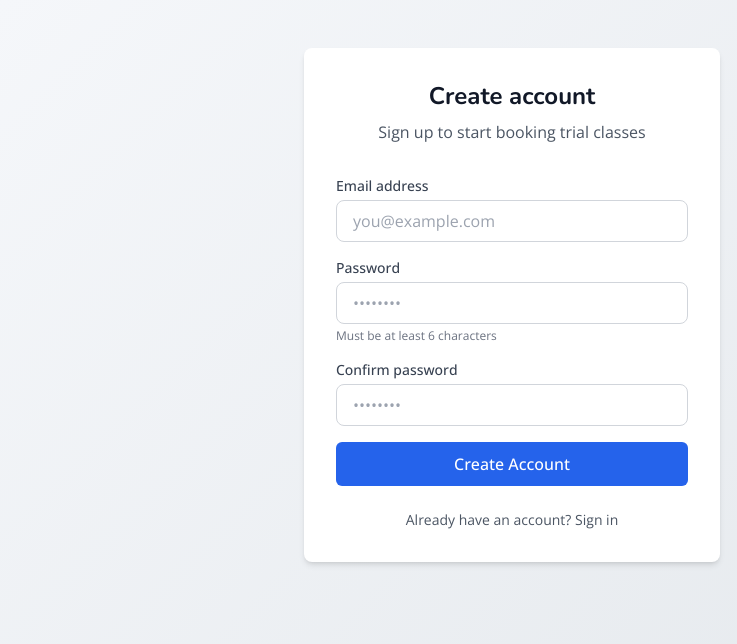
Scenario: LR-SU UI & structure › LR-SU-006: error region is NOT announced to assistive tech (current a11y defect, fix in F8)
Step 1. Type "a@b.co" into the field labelled "Email address" → point(512, 221), box [336, 200, 688, 242]
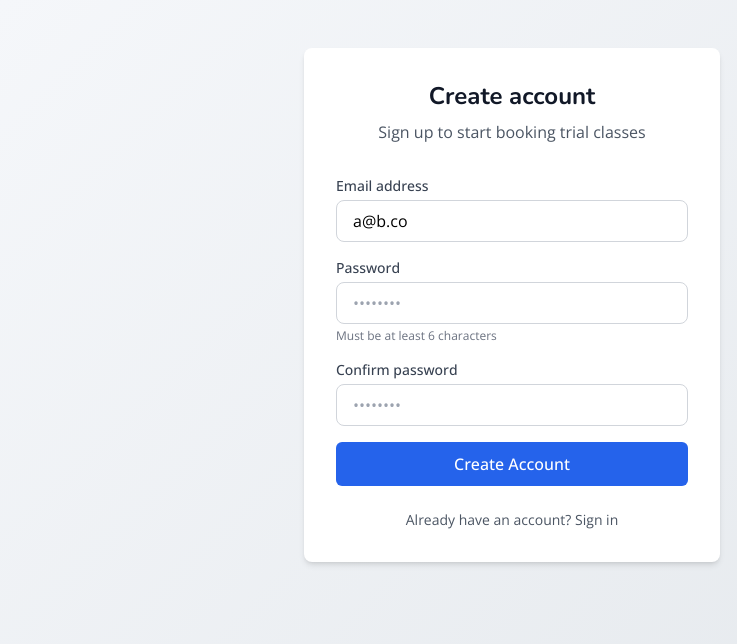
Step 2. Type "123456" into the password field labelled "Password" → point(512, 303), box [336, 282, 688, 324]
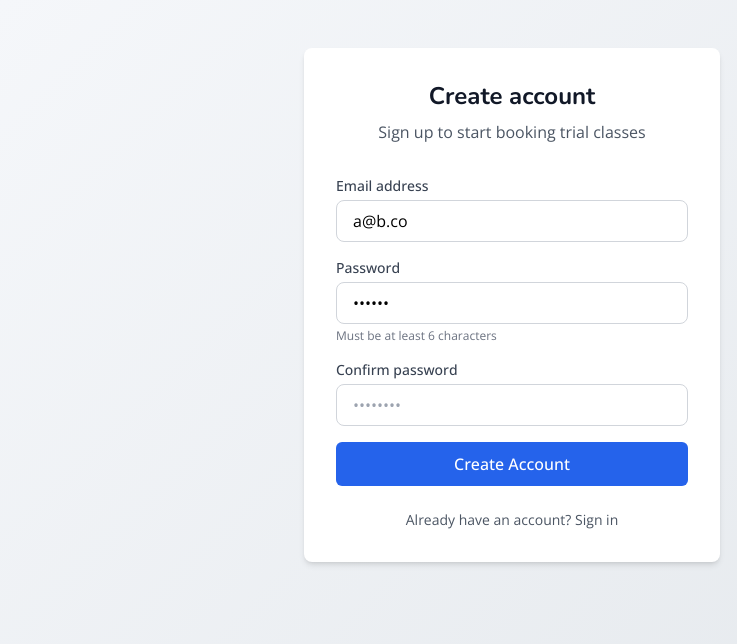
Step 3. Type "123456" into the password field labelled "Confirm password" → point(512, 405), box [336, 384, 688, 426]
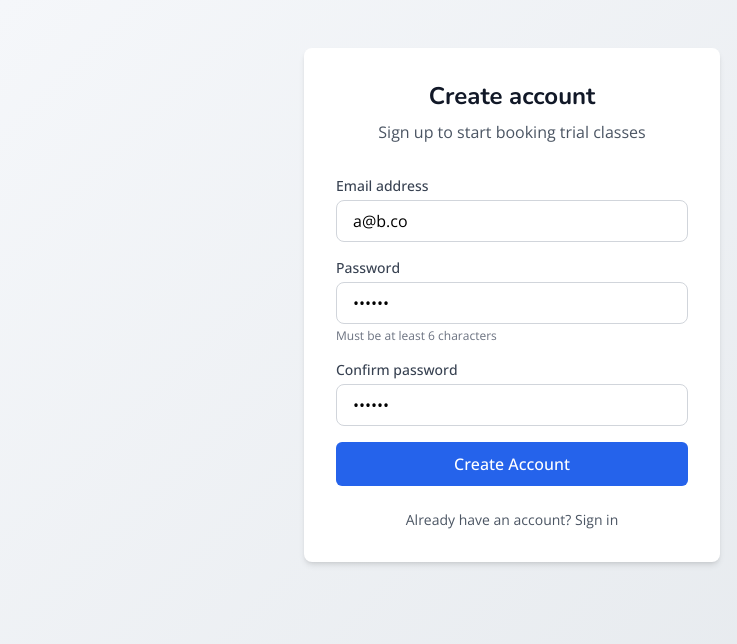
Step 4. Submit the form, box [336, 176, 688, 486]
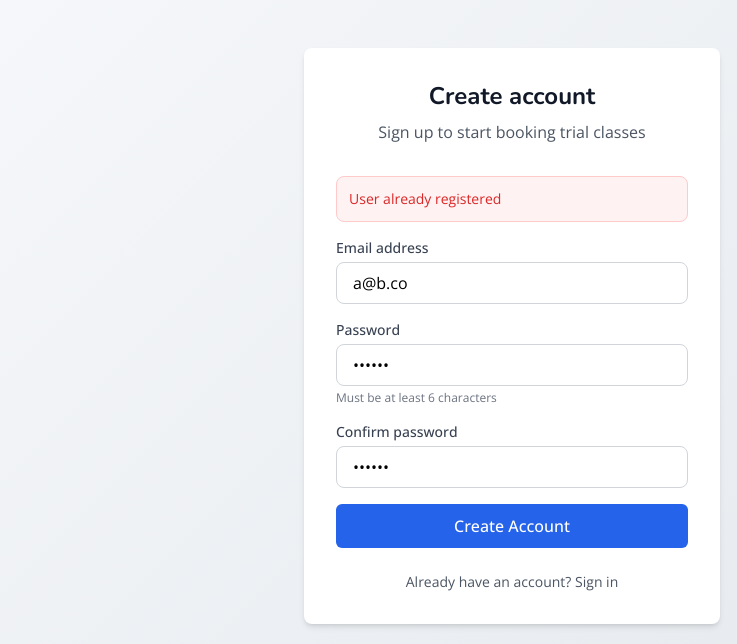
Check: the text "User already registered" is shown, box [349, 189, 501, 208]
